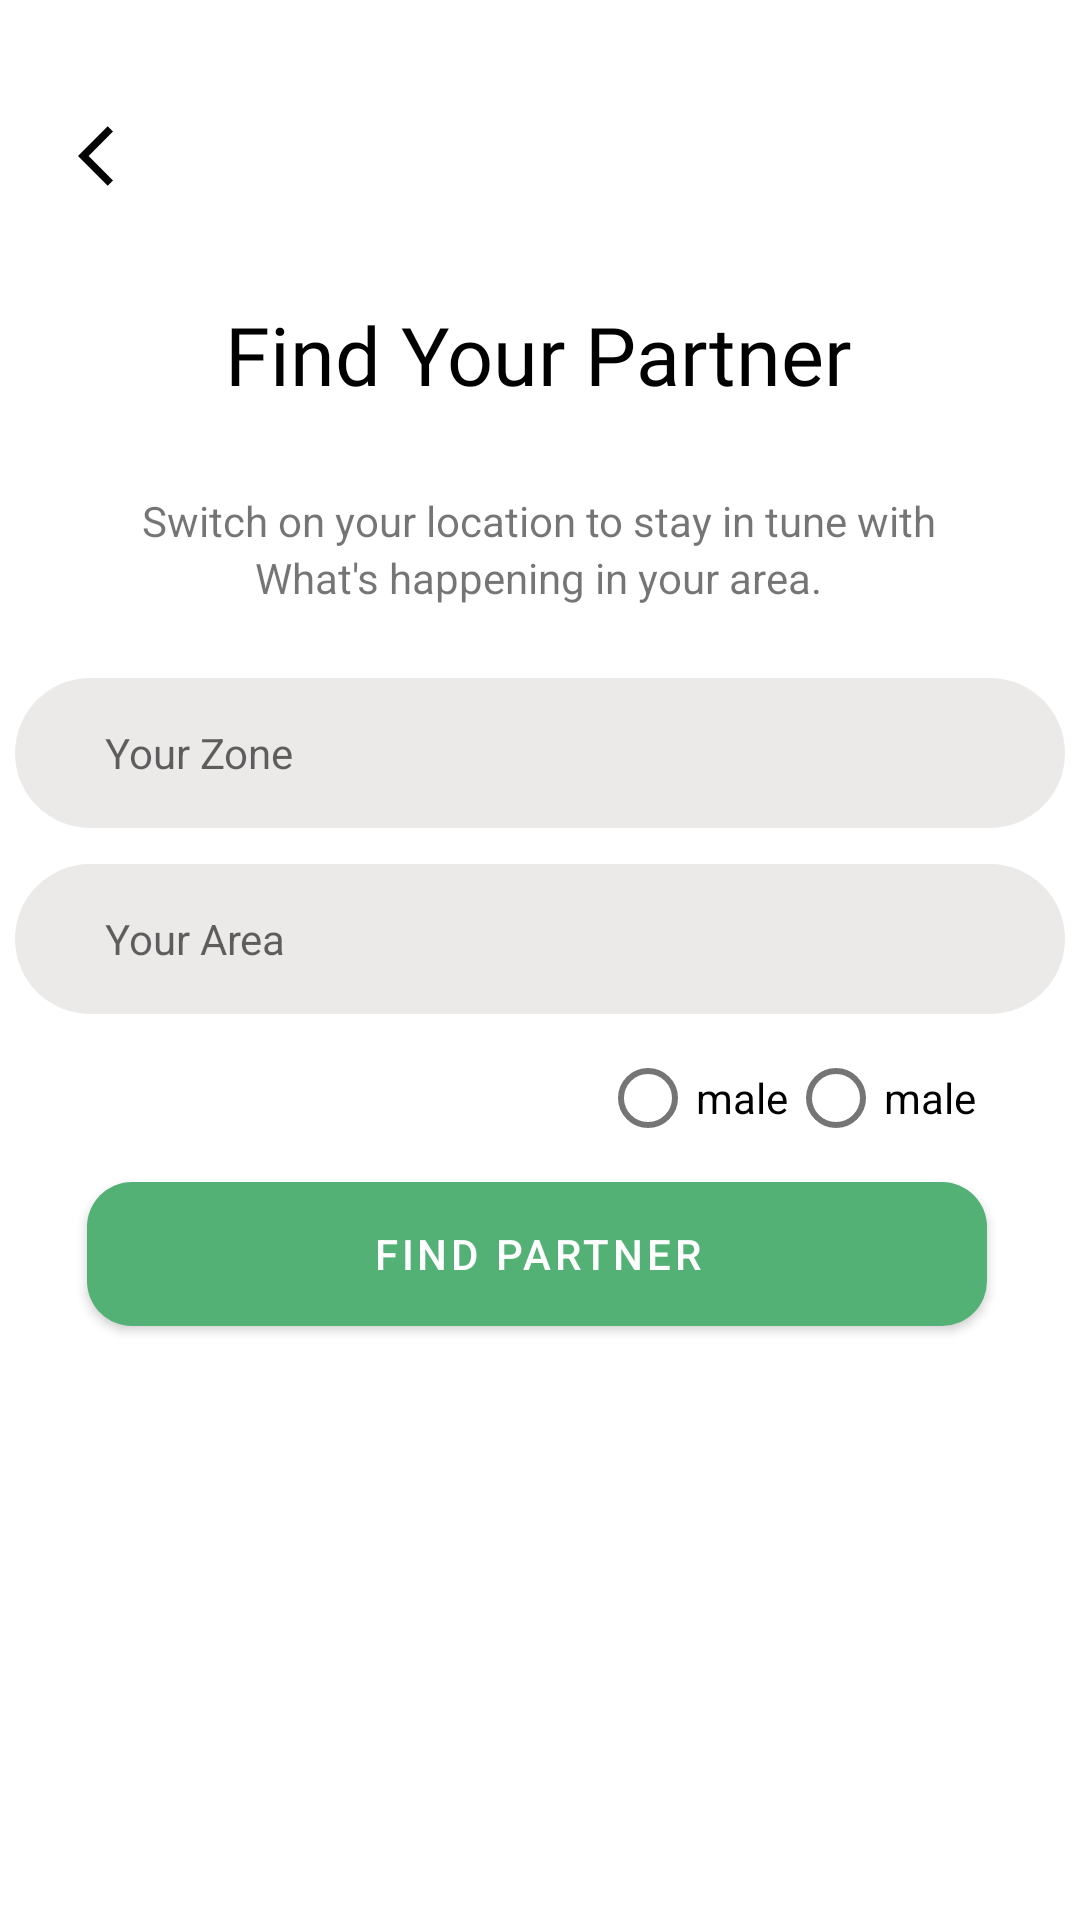

Icon click points for this 1080w x 1920h phone screenshot, format (x,y):
arrow back: (95,156)
